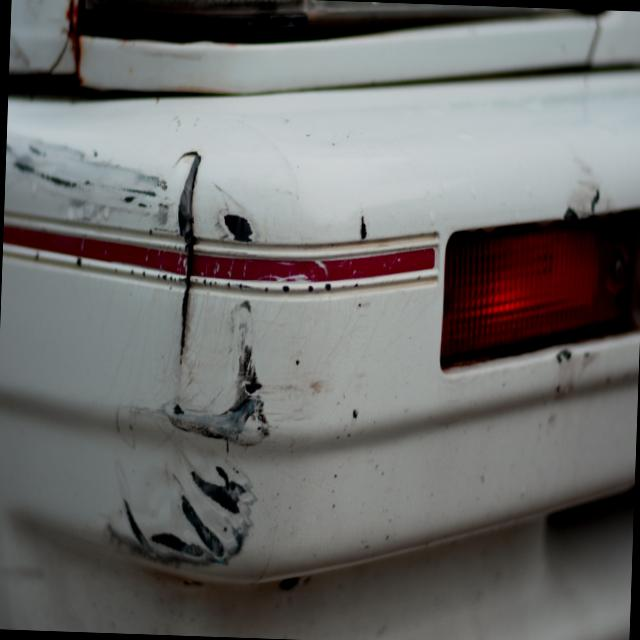Dechirure: (172, 133, 207, 373), (219, 210, 257, 250), (356, 209, 371, 243)
Rayure: (3, 120, 178, 239), (106, 458, 262, 582), (146, 324, 293, 454)
